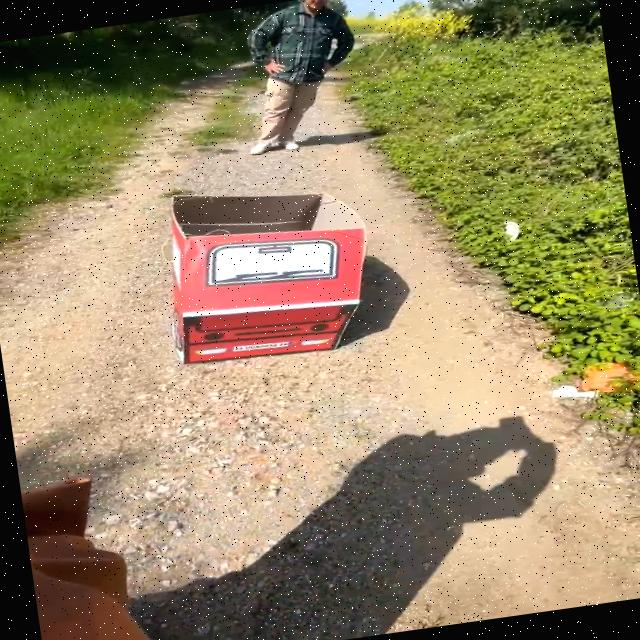red_car: (101, 164, 436, 384)
